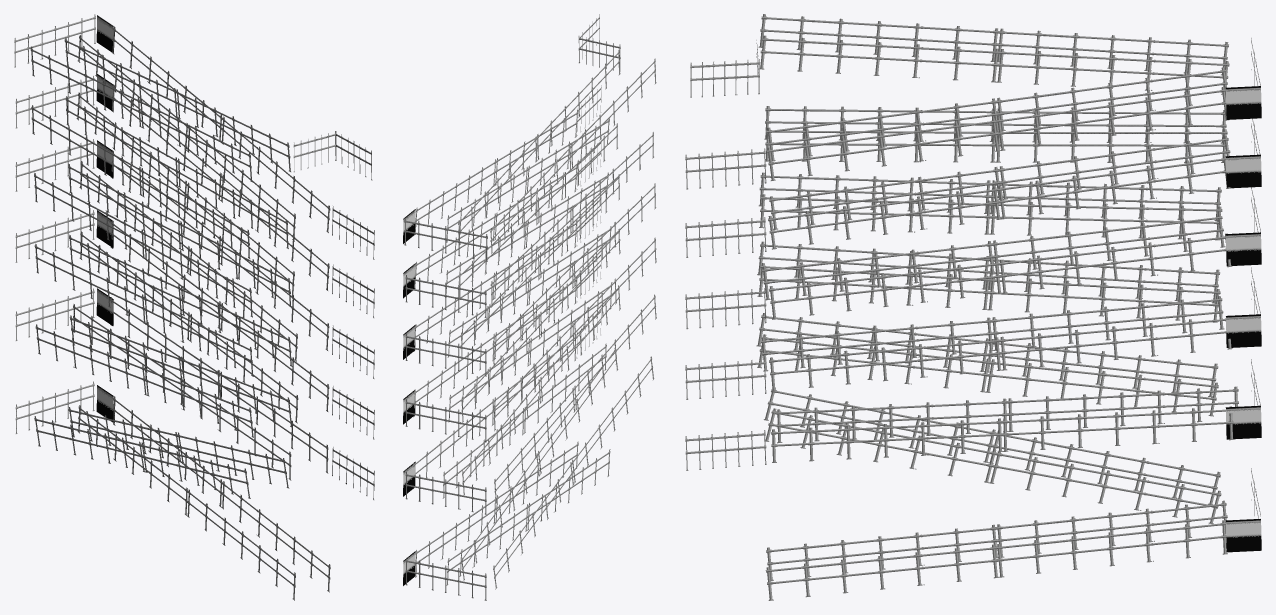
Rendered from baranda.fbx.
The picture shows the model from 3 angles, left to right: view 1: azimuth 30°, elevation 25°; view 2: azimuth 150°, elevation 25°; view 3: azimuth 270°, elevation 25°; orthographic projection. The views are drawn at different scales.
Visible parts, largest first — view 1: bloque_6:barandas; view 2: bloque_6:barandas; view 3: bloque_6:barandas.
Part boxes in pixels (<box>): bloque_6:barandas: <box>14,14,374,600</box>; bloque_6:barandas: <box>403,14,656,600</box>; bloque_6:barandas: <box>685,14,1261,600</box>.
Bounding box in the file's own units: 65.27 × 243 × 234.
2 materials, 2 textured.
